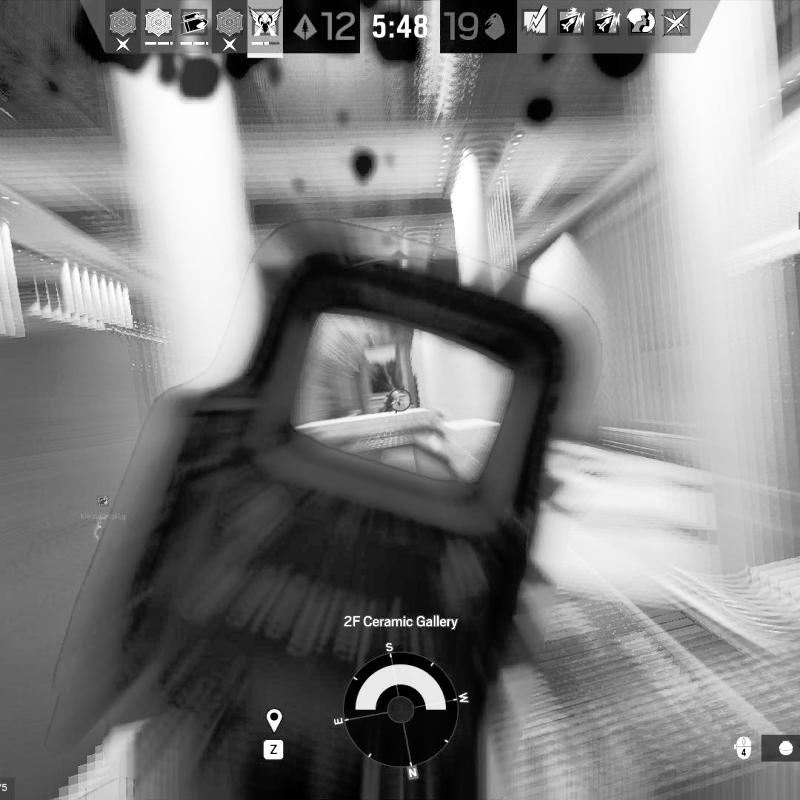Character: (378, 388, 404, 412)
Friend_label: (78, 493, 128, 523)
Head: (388, 389, 399, 400)
